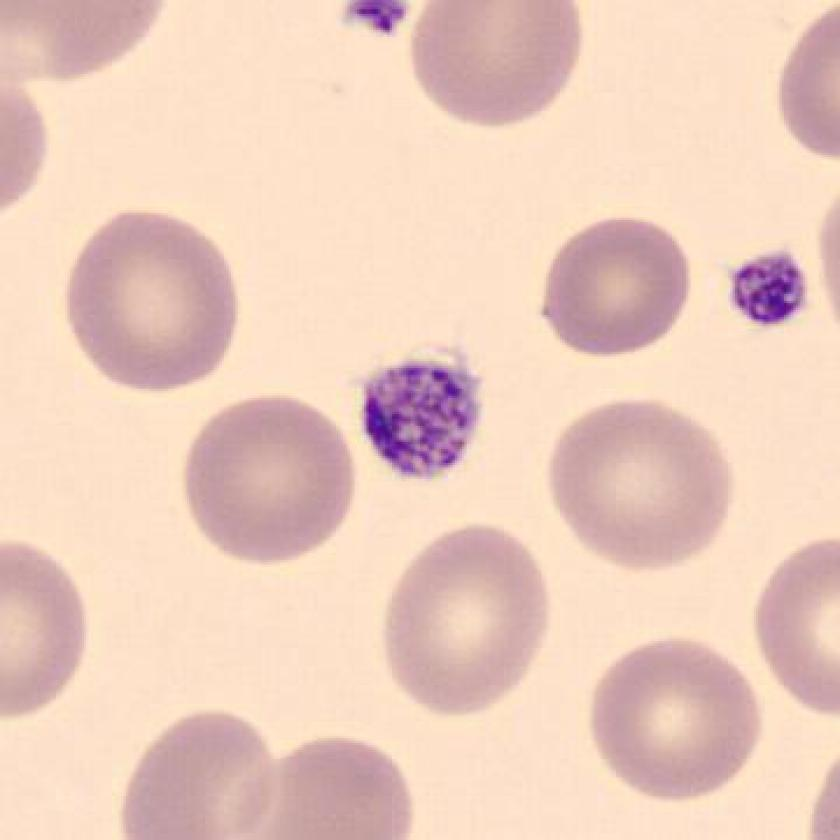platelets: (346, 339, 496, 496), (717, 242, 818, 346)
